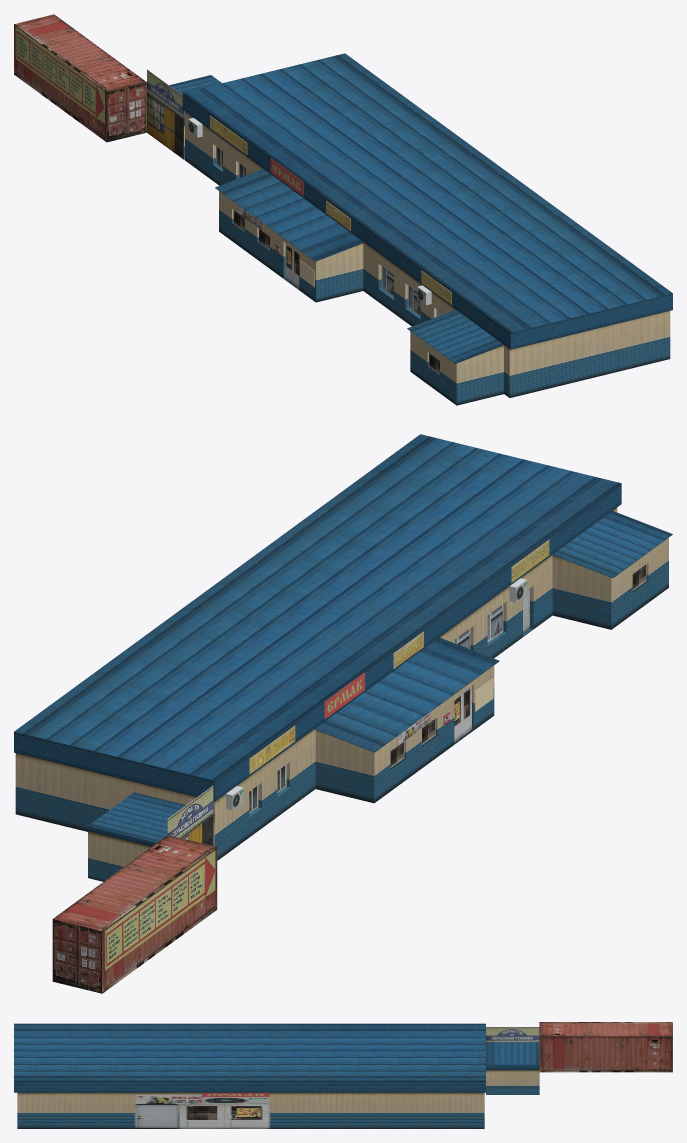
File: r402_kafe_ermak.FBX
3 renders of one model, top to bottom at view 1: azimuth 30°, elevation 25°; view 2: azimuth 150°, elevation 25°; view 3: azimuth 270°, elevation 25°, orthographic. The views are drawn at different scales.
Visible parts, largest first — view 1: r402_kafe_ermak; view 2: r402_kafe_ermak; view 3: r402_kafe_ermak.
Part boxes in pixels (x1=…): r402_kafe_ermak: x1=14, y1=14, x2=672, y2=405; r402_kafe_ermak: x1=14, y1=434, x2=672, y2=993; r402_kafe_ermak: x1=14, y1=1022, x2=672, y2=1128.
Bounding box in the file's own units: 13.11 × 49.35 × 4.
